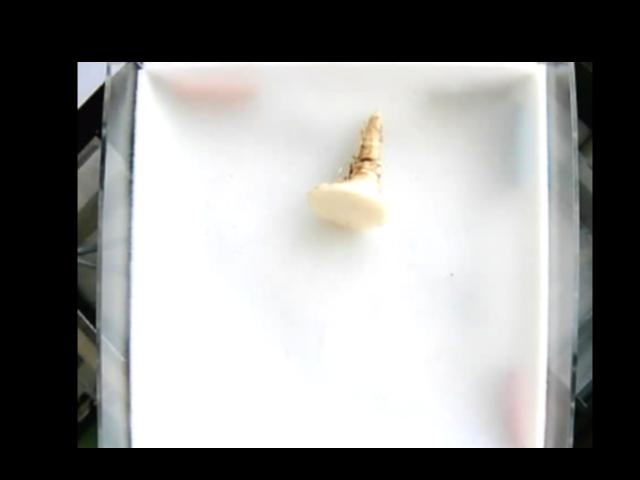Mooli: (306, 110, 388, 232)
